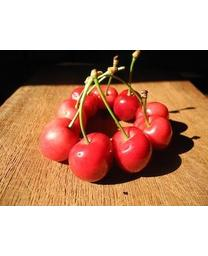cherry: (68, 133, 110, 182), (38, 116, 81, 163), (110, 126, 152, 174), (134, 114, 173, 147), (71, 87, 99, 123), (57, 99, 86, 131), (136, 101, 168, 130), (115, 88, 140, 120), (91, 84, 117, 110)
